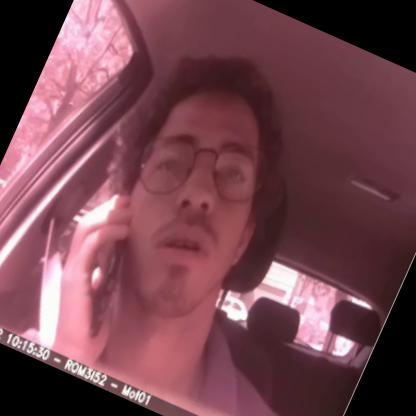phone: (55, 194, 162, 342)
